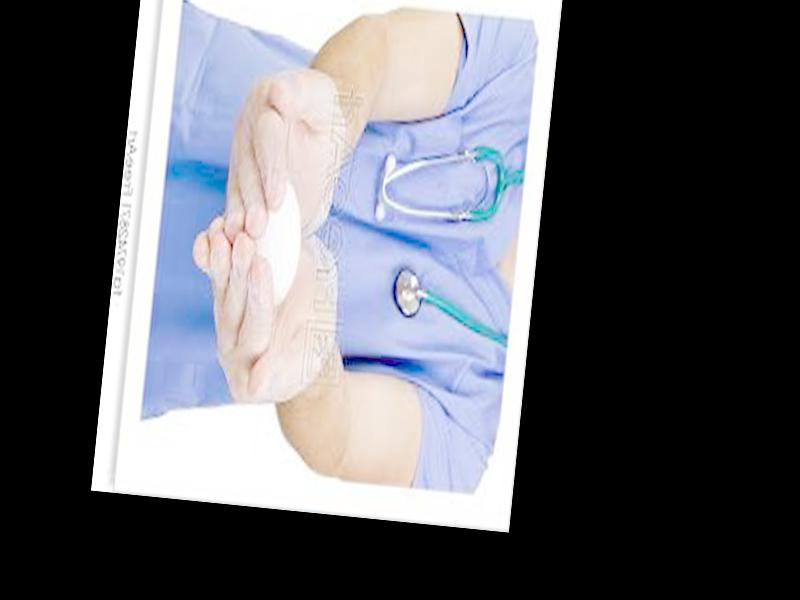Eggs: (247, 177, 307, 303)
